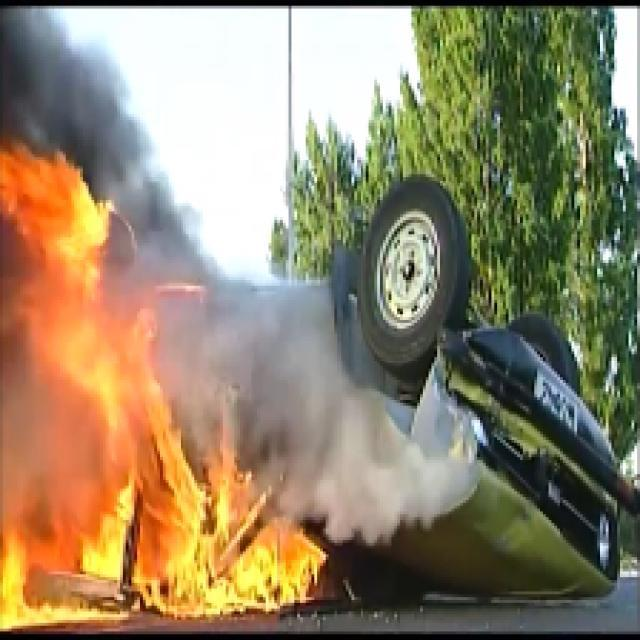Fire: (2, 145, 328, 640)
Smoke: (220, 294, 466, 543), (2, 3, 108, 143)
